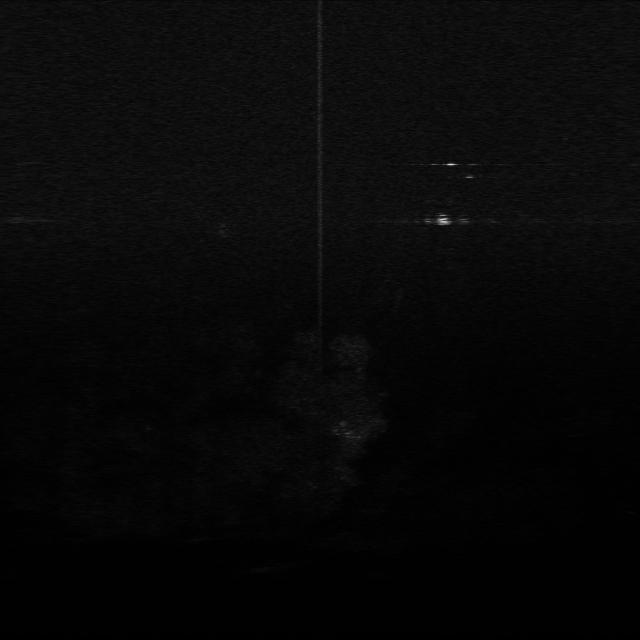rov: (430, 210, 454, 228)
